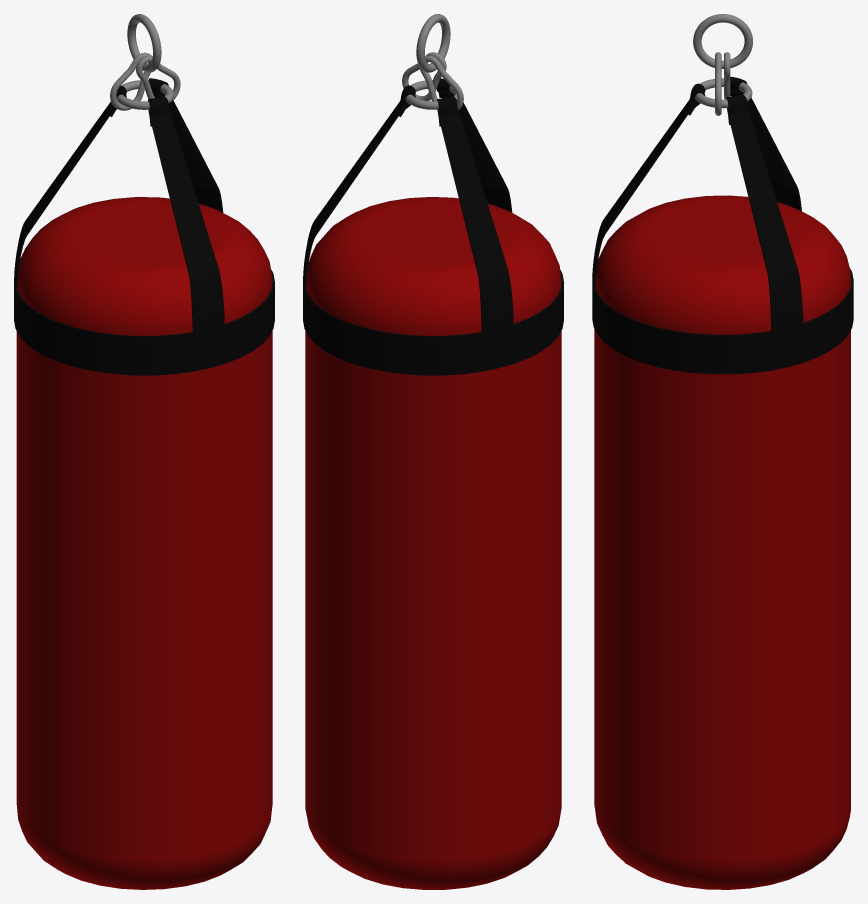
The model's file is punchbag_blender.obj.
3 renders of one model, left to right at view 1: azimuth 30°, elevation 25°; view 2: azimuth 150°, elevation 25°; view 3: azimuth 270°, elevation 25°, orthographic.
Visible parts, largest first — view 1: punchbag_v13; view 2: punchbag_v13; view 3: punchbag_v13.
Part boxes in pixels (bbox=[...]): punchbag_v13: bbox=[14, 14, 274, 889]; punchbag_v13: bbox=[303, 14, 563, 889]; punchbag_v13: bbox=[592, 14, 853, 889].
Size of the model in its own units: 0.3771 by 1.34 by 0.3782.
